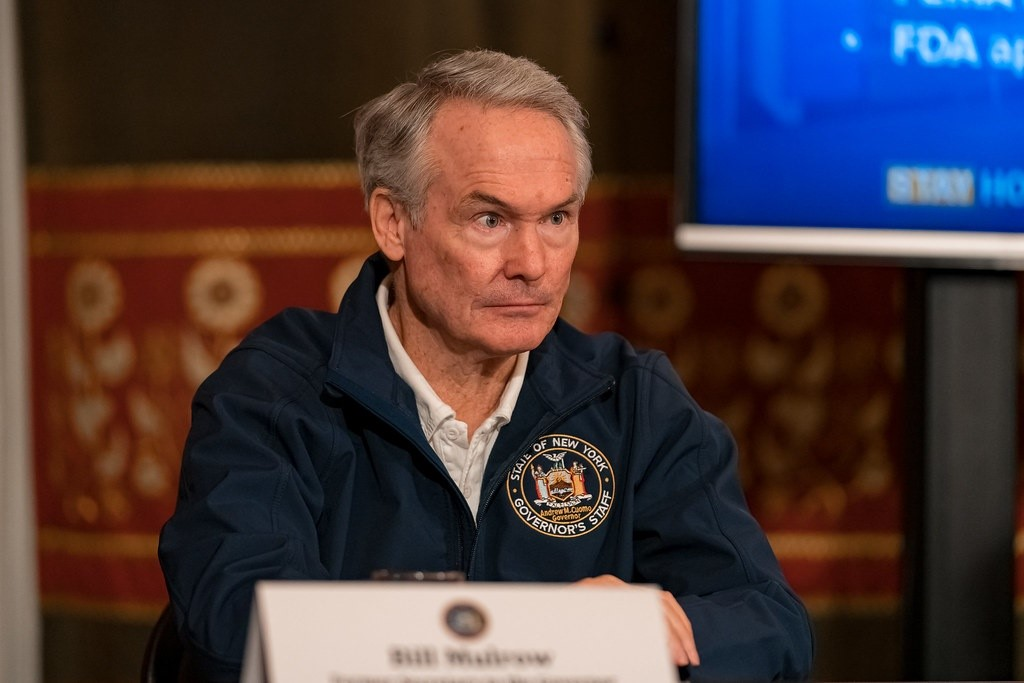face_no_mask: (358, 57, 591, 361)
